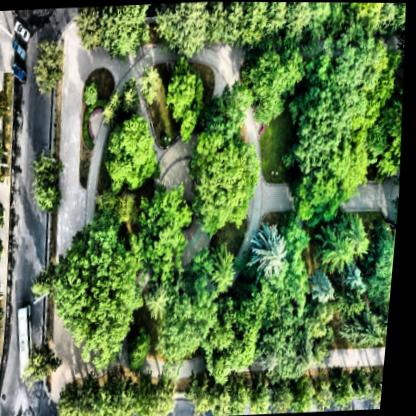tree-top: (59, 223, 150, 372), (191, 129, 261, 233), (140, 176, 203, 279), (240, 39, 306, 125), (293, 87, 352, 174), (163, 283, 222, 366), (101, 113, 161, 194), (83, 3, 158, 62), (162, 57, 216, 138), (294, 167, 358, 222), (154, 1, 213, 54), (235, 293, 277, 364), (33, 149, 75, 217), (264, 316, 308, 376), (30, 33, 70, 97), (251, 214, 292, 274), (338, 135, 374, 203), (208, 86, 248, 146), (330, 32, 371, 87), (373, 234, 400, 311), (357, 303, 394, 353), (364, 67, 397, 117), (109, 369, 143, 416), (131, 327, 161, 379), (31, 346, 64, 393), (383, 103, 406, 170), (288, 258, 318, 309), (211, 252, 243, 297), (80, 370, 110, 416), (158, 371, 187, 416), (336, 361, 362, 410), (213, 305, 240, 352), (209, 1, 234, 51), (192, 372, 219, 415), (314, 272, 347, 306), (152, 282, 179, 323), (212, 347, 241, 385), (254, 375, 281, 414), (331, 233, 360, 268), (232, 374, 258, 413), (226, 1, 248, 47), (277, 374, 304, 411), (140, 61, 163, 104), (365, 120, 390, 159), (315, 374, 341, 411), (215, 376, 239, 416), (356, 222, 379, 263), (299, 333, 323, 371), (297, 373, 320, 411), (64, 380, 88, 416), (290, 219, 315, 253), (321, 330, 344, 365), (141, 381, 163, 416), (349, 2, 381, 26), (285, 2, 308, 35), (100, 97, 123, 129), (330, 2, 352, 35), (263, 2, 287, 31), (347, 268, 370, 297), (120, 81, 140, 114), (305, 2, 331, 27), (316, 302, 334, 336), (359, 372, 380, 397), (81, 79, 99, 108), (0, 85, 11, 128), (0, 193, 9, 242), (377, 377, 390, 408), (0, 239, 10, 277), (392, 2, 407, 27), (377, 2, 393, 23), (388, 300, 395, 340), (0, 308, 6, 350), (0, 164, 10, 189), (0, 134, 6, 165), (0, 279, 4, 310), (0, 343, 3, 374), (0, 380, 1, 413)
